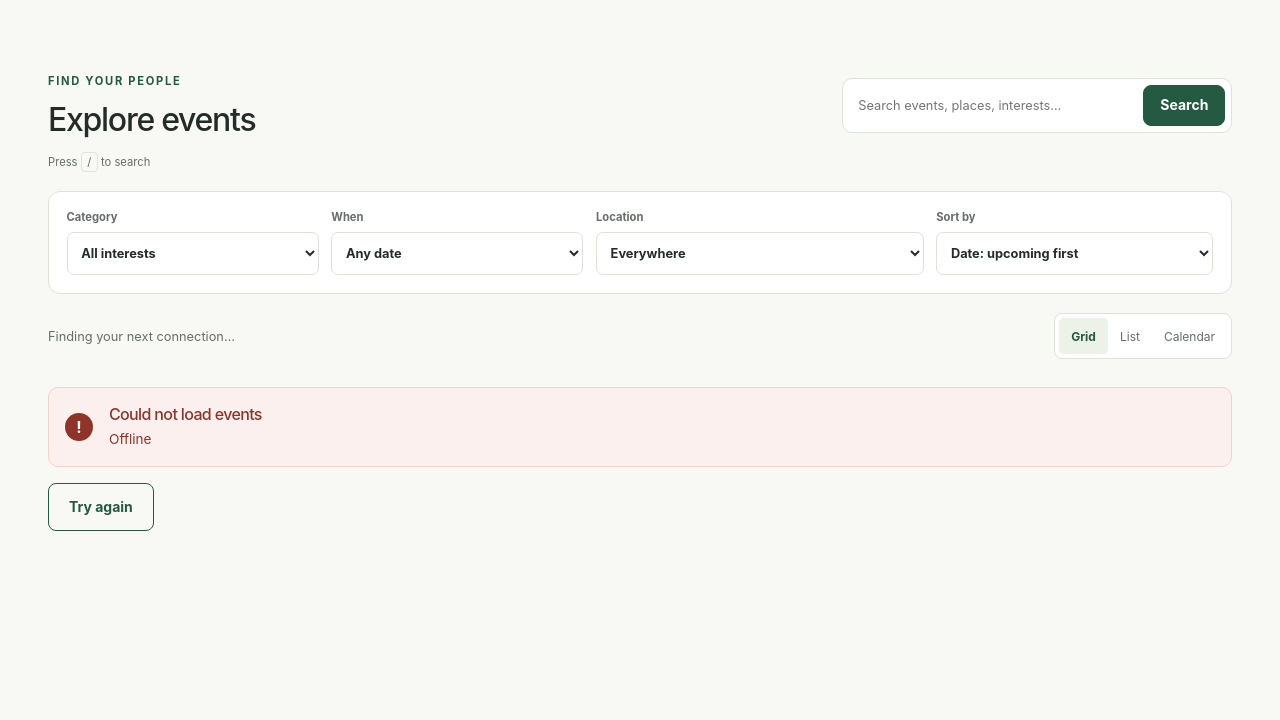
Test: retries a failed search
The image size is (1280, 720).
expect the message "! Could not load events Offline" is shown: met, box [48, 387, 1232, 467]
What coordinates should you click on to do the following:
click the button "Try again"
I would click on:
 (101, 507)
Its box is [48, 483, 154, 531].
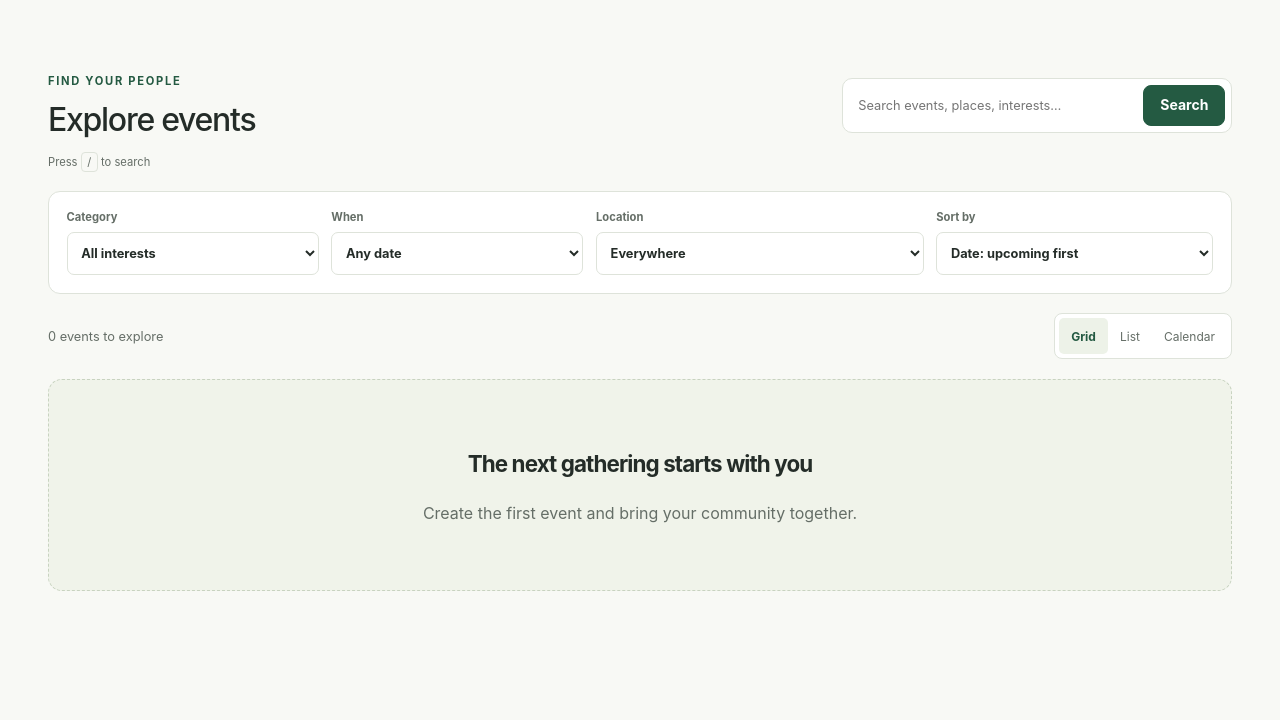
expect the heading "The next gathering starts with you" is shown: met, box [468, 450, 812, 477]
